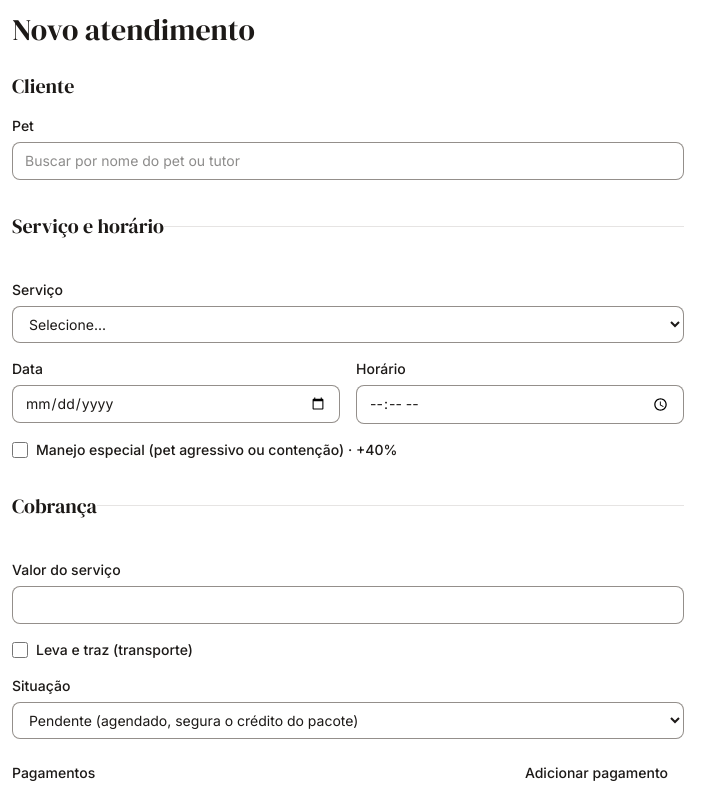
Test: AtendimentoForm › 'cobrar como avulso' desvincula e revela os pagamentos
The image size is (703, 793).
Step 1. Type "Luna" into the dropdown labelled "Pet" → (348, 161), box [12, 142, 684, 180]
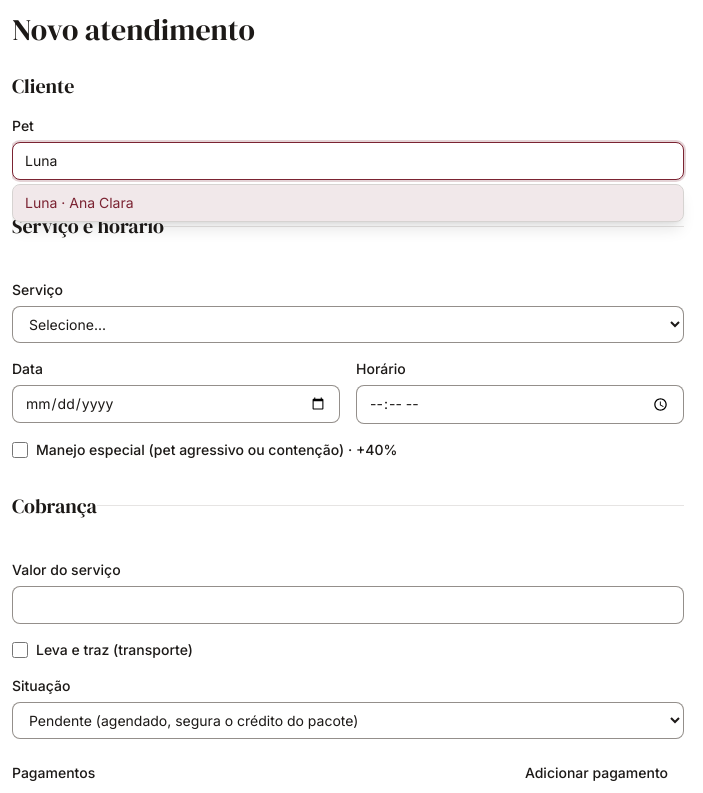
expect the option "Luna · Ana Clara" is shown: met
Step 2. Click the option "Luna · Ana Clara" → (79, 202), box [13, 185, 683, 221]
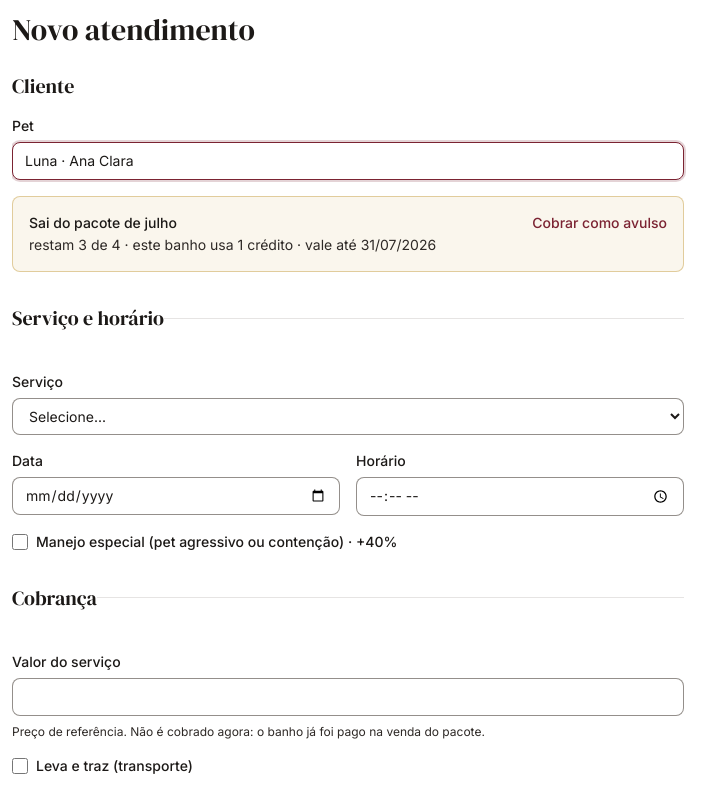
expect the text "Sai do pacote de julho" is shown: met, box [29, 214, 177, 231]
Step 3. Click the button "Cobrar como avulso" → (600, 223), box [532, 213, 667, 233]
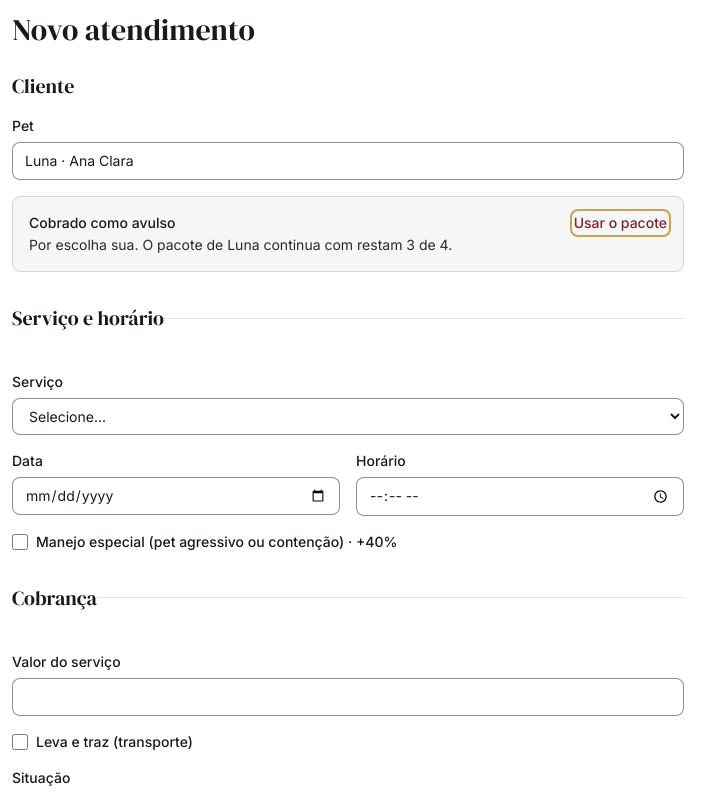
expect the text "Sai do pacote de julho" is gone: met
Step 4. Click the button "Usar o pacote" → (620, 223), box [574, 213, 667, 233]
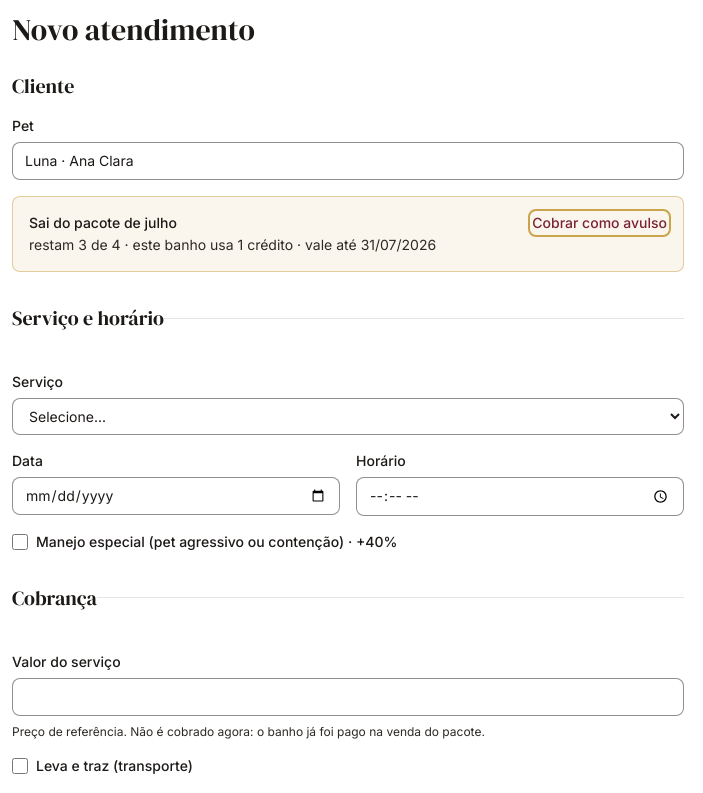
expect the text "Sai do pacote de julho" is shown: met, box [29, 214, 177, 231]
